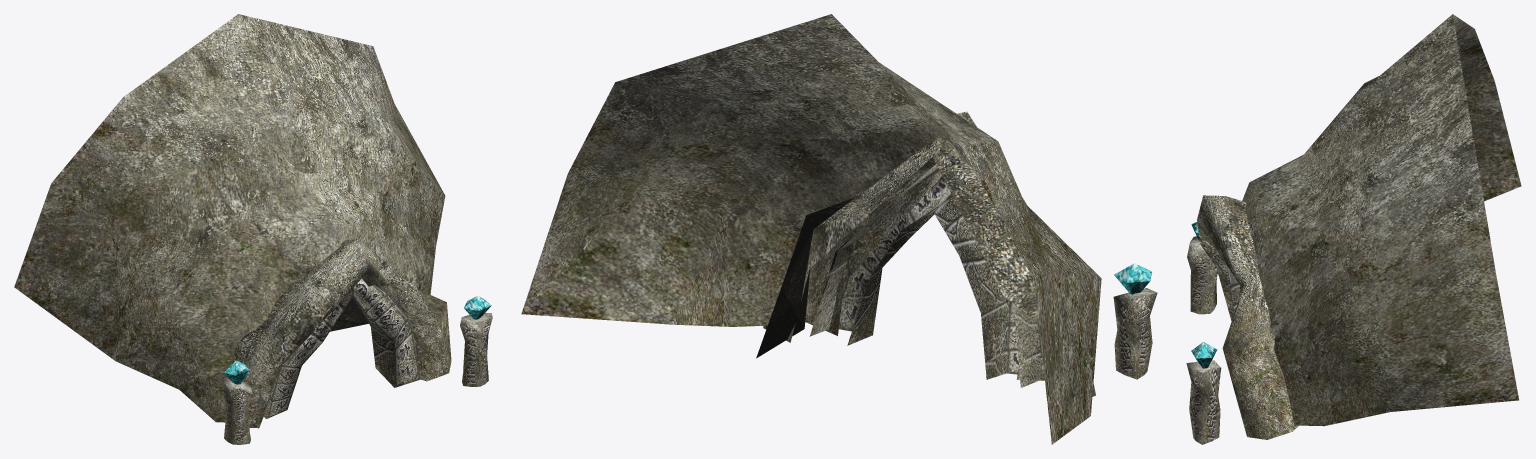
File: warpgate01.fbx
3 views of the same model, side by side, from view 1: azimuth 30°, elevation 25°; view 2: azimuth 150°, elevation 25°; view 3: azimuth 270°, elevation 25° (orthographic). The views are drawn at different scales.
Visible parts, largest first — view 1: warpgate01-01, warpgate01-02; view 2: warpgate01-01, warpgate01-02; view 3: warpgate01-01, warpgate01-02.
Part boxes in pixels (<box>): warpgate01-01: <box>14,14,445,422</box>; warpgate01-02: <box>223,238,492,444</box>; warpgate01-01: <box>521,14,1101,444</box>; warpgate01-02: <box>763,111,1157,387</box>; warpgate01-01: <box>1242,14,1521,426</box>; warpgate01-02: <box>1186,195,1298,444</box>.
Size of the model in its own units: 21.64 by 17.06 by 14.32.
